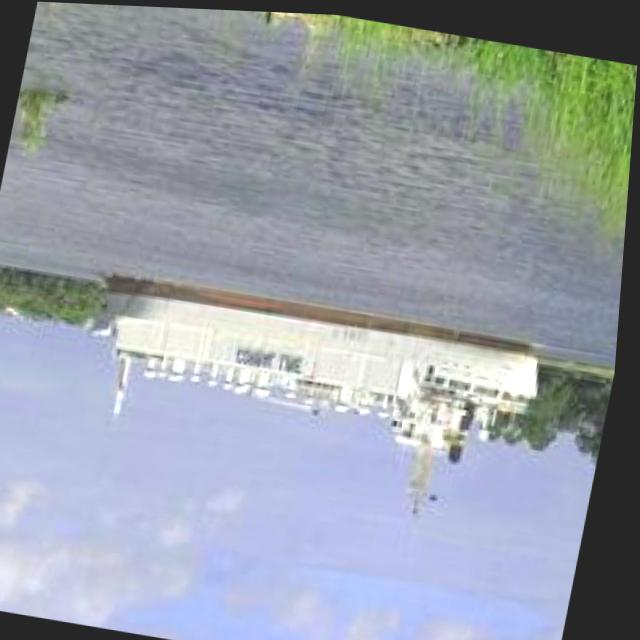ship2: (97, 271, 548, 489)
